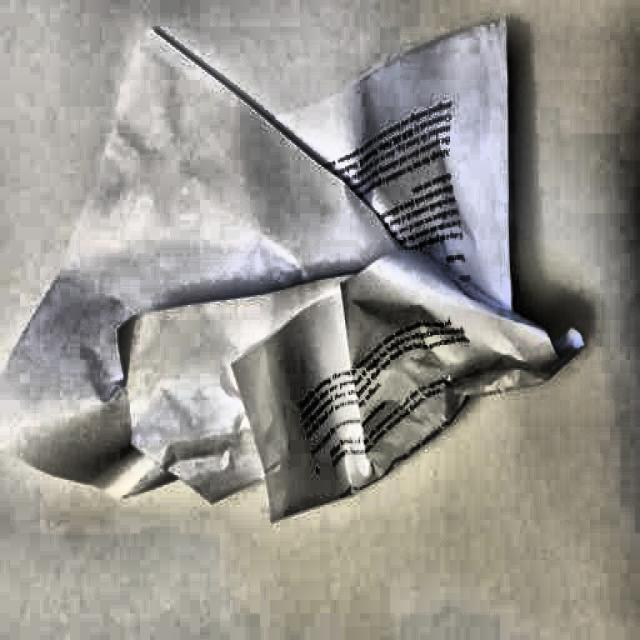paper: (0, 0, 581, 507)
